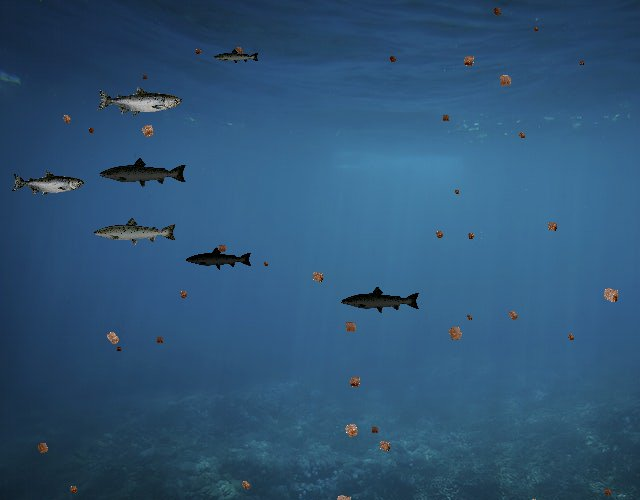Fish: (99, 157, 189, 189), (92, 216, 178, 247), (96, 86, 182, 117), (340, 285, 421, 314), (12, 171, 85, 197), (186, 247, 254, 271), (213, 49, 260, 66)
Pellet: (493, 68, 517, 92), (306, 266, 329, 289), (503, 305, 523, 325), (57, 109, 76, 128), (231, 42, 247, 58), (368, 423, 382, 437), (85, 124, 98, 137), (452, 186, 462, 196)
